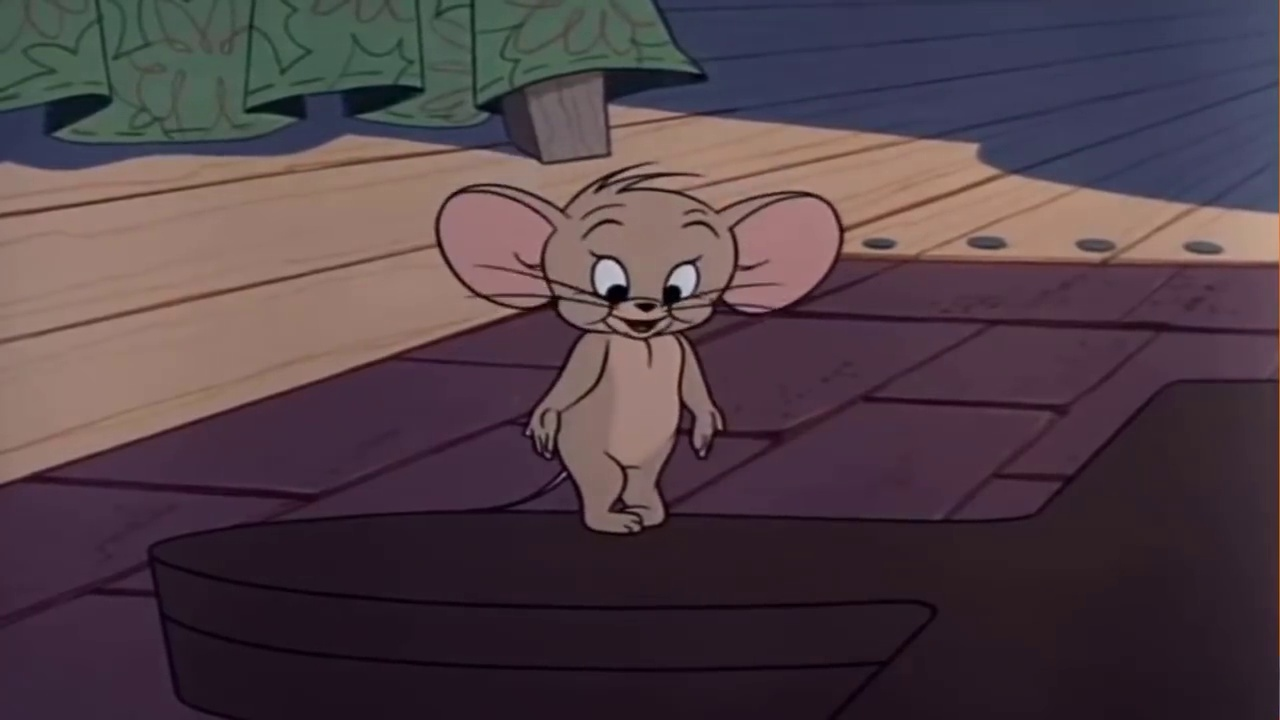face: (576, 204, 718, 340)
